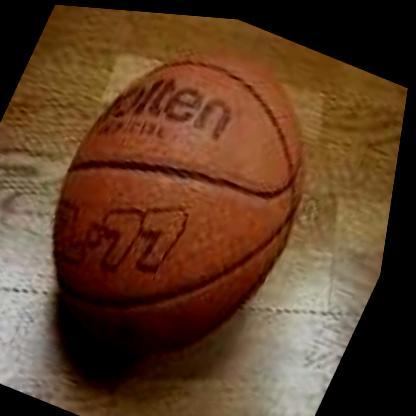basketball: (5, 4, 367, 395)
